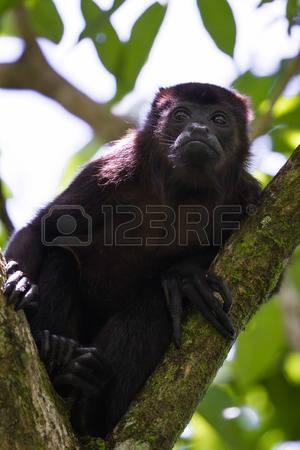monkey: (5, 83, 263, 422)
